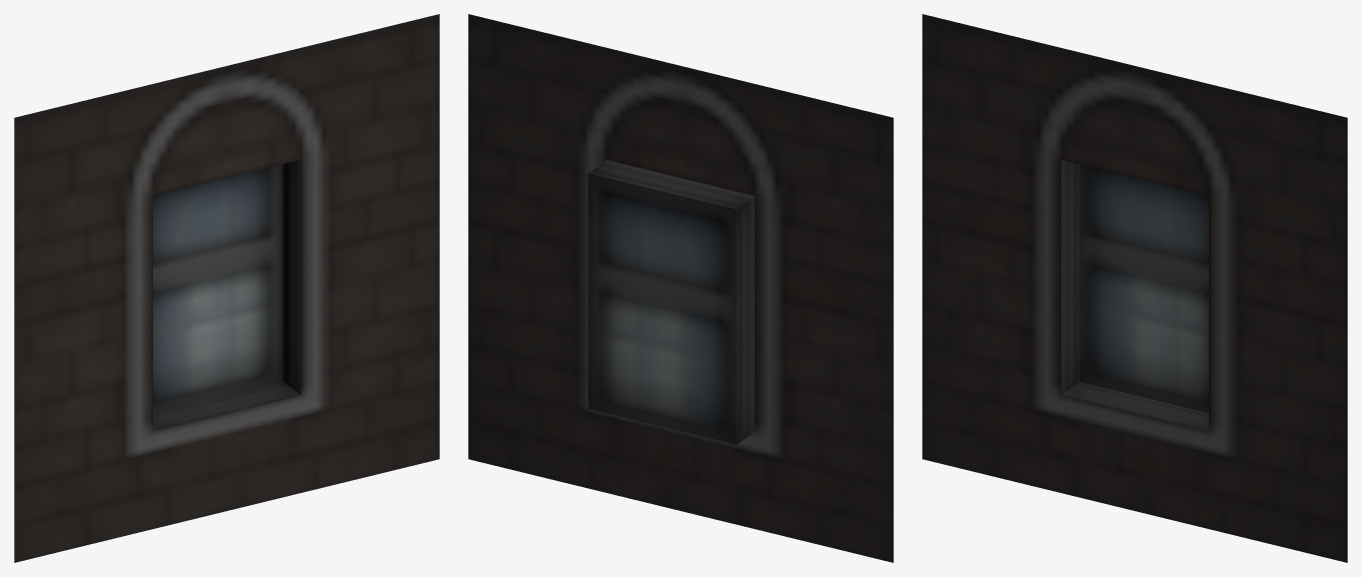
Rendered from B11_WindowLow.FBX.
The picture shows the model from 3 angles, left to right: view 1: azimuth 30°, elevation 25°; view 2: azimuth 150°, elevation 25°; view 3: azimuth 330°, elevation 25°; orthographic projection.
Visible parts, largest first — view 1: B11_WindowLow; view 2: B11_WindowLow; view 3: B11_WindowLow.
Part boxes in pixels (x1=…): B11_WindowLow: x1=14, y1=14, x2=439, y2=562; B11_WindowLow: x1=468, y1=14, x2=893, y2=562; B11_WindowLow: x1=922, y1=14, x2=1347, y2=562.
Size of the model in its own units: 4 by 4 by 0.2997.
